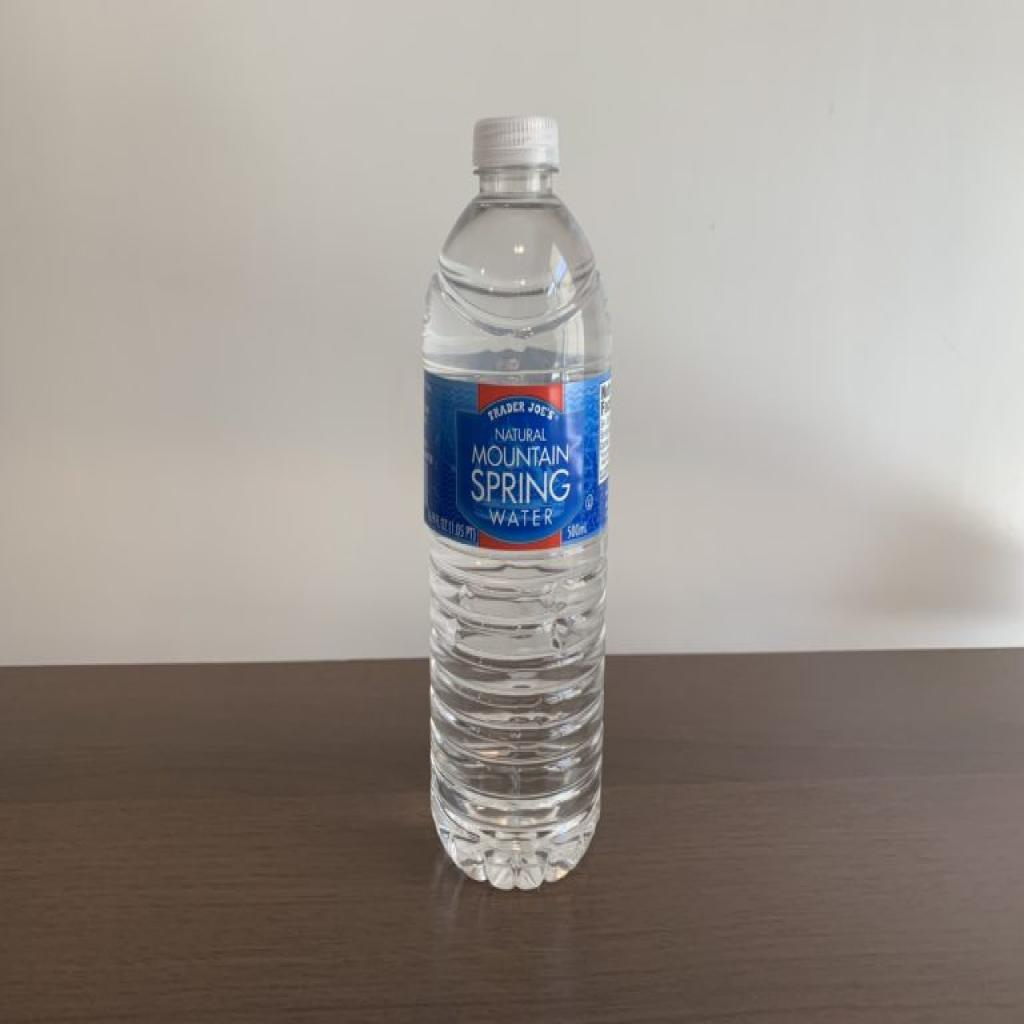plastic: (393, 101, 643, 919)
